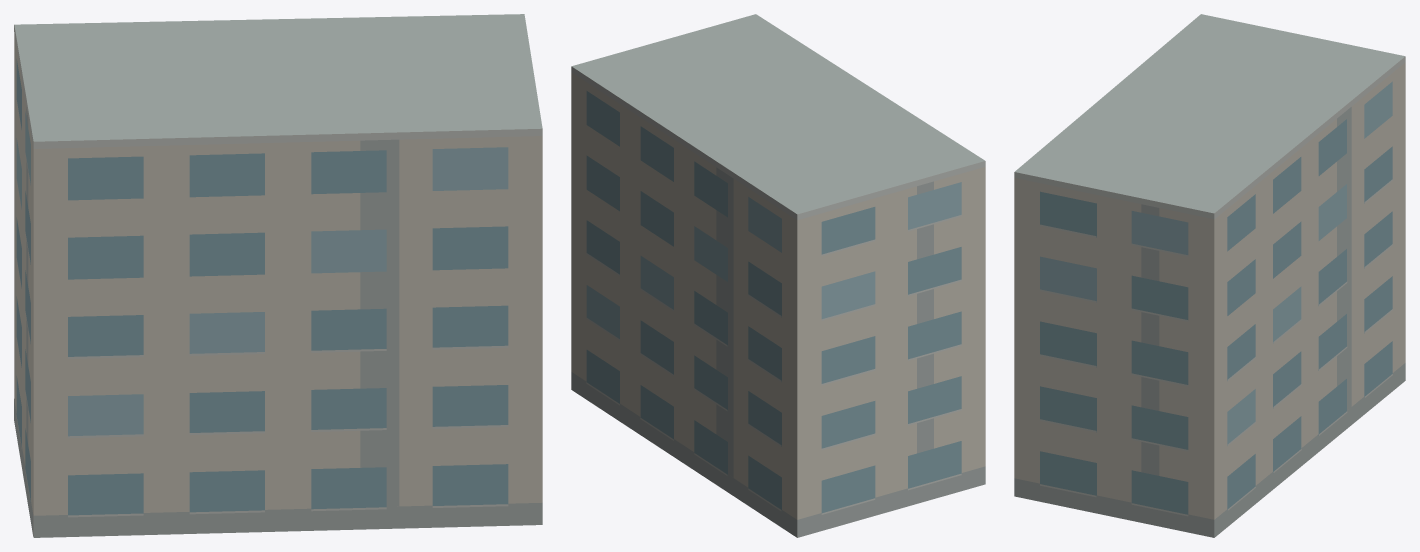
File: survey-upis-33004738.glb
3 views of the same model, side by side, from view 1: azimuth 30°, elevation 25°; view 2: azimuth 150°, elevation 25°; view 3: azimuth 270°, elevation 25° (orthographic). The views are drawn at different scales.
Visible parts, largest first — view 1: survey-upis-33004738.tmp; view 2: survey-upis-33004738.tmp; view 3: survey-upis-33004738.tmp.
Boxes of the visible parts, x1,y1,x2,y2 form: survey-upis-33004738.tmp: (14,14,542,537); survey-upis-33004738.tmp: (571,14,985,537); survey-upis-33004738.tmp: (1014,14,1405,537).
Size of the model in its own units: 17.68 by 13.4 by 14.65.
